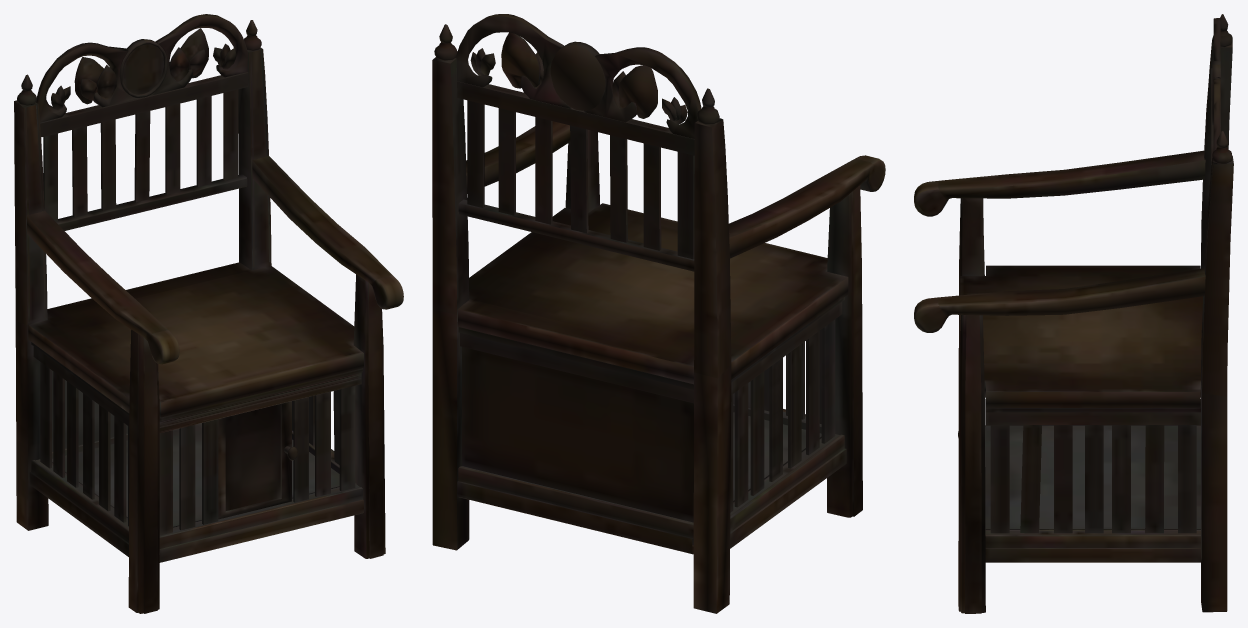
Rendered from gallinera.glb.
3 views of the same model, side by side, from view 1: azimuth 30°, elevation 25°; view 2: azimuth 150°, elevation 25°; view 3: azimuth 270°, elevation 25° (orthographic). The views are drawn at different scales.
Visible parts, largest first — view 1: gallinera_chair; view 2: gallinera_chair; view 3: gallinera_chair.
Part boxes in pixels (bbox=[...]): gallinera_chair: bbox=[14, 14, 403, 613]; gallinera_chair: bbox=[432, 14, 885, 613]; gallinera_chair: bbox=[914, 14, 1233, 613].
Bounding box in the file's own units: 0.5799 × 1.03 × 0.6034.
1 material, 1 textured.
